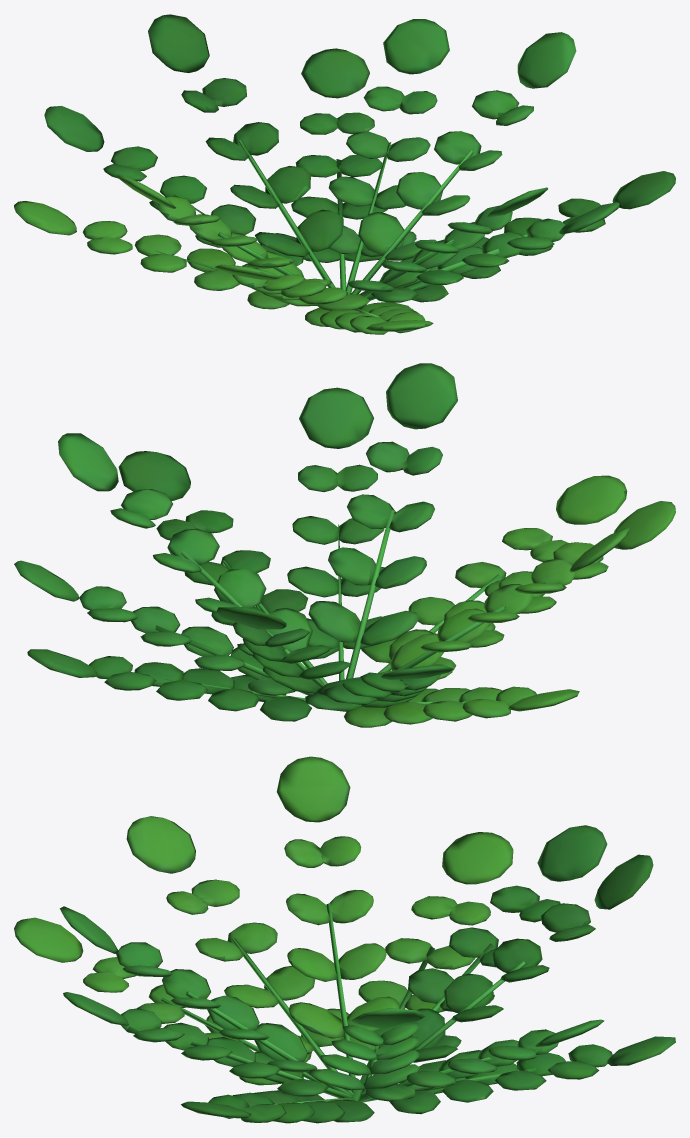
Rendered from crop_arugula.glb.
The picture shows the model from 3 angles, top to bottom: view 1: azimuth 30°, elevation 25°; view 2: azimuth 150°, elevation 25°; view 3: azimuth 270°, elevation 25°; orthographic projection. The views are drawn at different scales.
Visible parts, largest first — view 1: crop_arugula, fruit; view 2: crop_arugula, fruit; view 3: crop_arugula, fruit.
Part boxes in pixels (left/top/right/bottom): crop_arugula: left=44, top=14, right=675, bottom=317; fruit: left=14, top=175, right=433, bottom=334; crop_arugula: left=14, top=363, right=505, bottom=721; fruit: left=344, top=475, right=675, bottom=727; crop_arugula: left=59, top=825, right=675, bottom=1123; fruit: left=14, top=756, right=513, bottom=1085.
Size of the model in its own units: 0.3618 by 0.1327 by 0.3603.
Materials: 1 (1 with a texture image).
